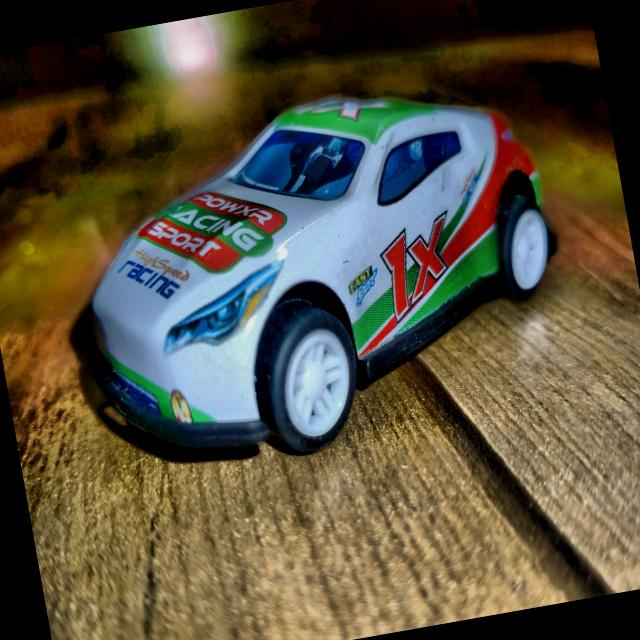Car: (64, 67, 584, 485)
